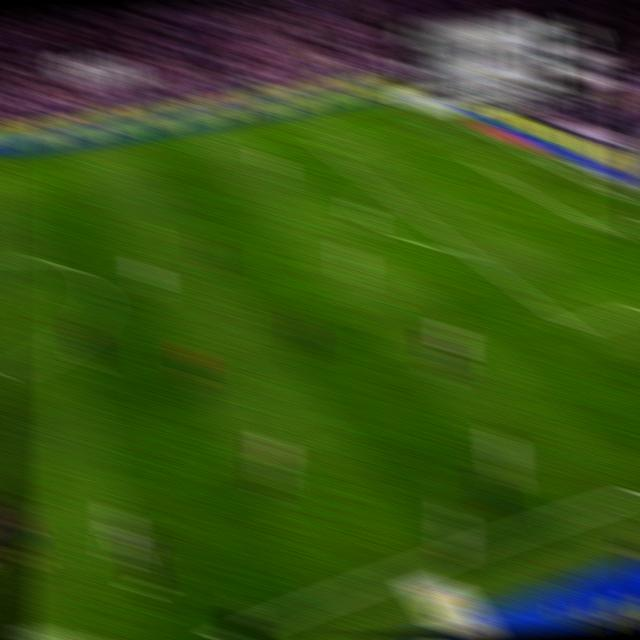bigarea_bottom_inner: (561, 314, 586, 340)
bigarea_top_inner: (317, 141, 339, 159)
bigarea_top_outter: (452, 116, 473, 130)
bottom_arc_area_intersection: (452, 240, 477, 260)
smallarea_bottom_inner: (592, 220, 616, 241)
smallarea_top_inner: (468, 156, 488, 170)
top_arc_area_intersection: (369, 180, 393, 198)
